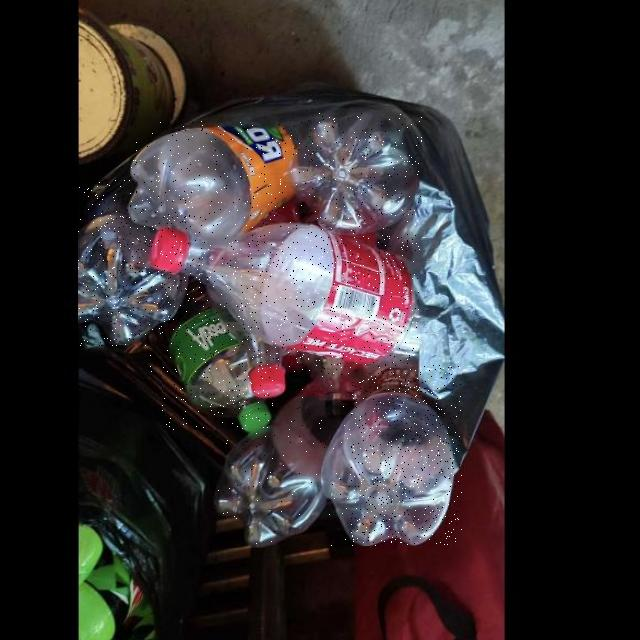plastic: (151, 223, 420, 372), (321, 365, 462, 545), (214, 379, 350, 548), (130, 120, 310, 242), (78, 180, 190, 345), (162, 278, 273, 430), (288, 113, 422, 236)
